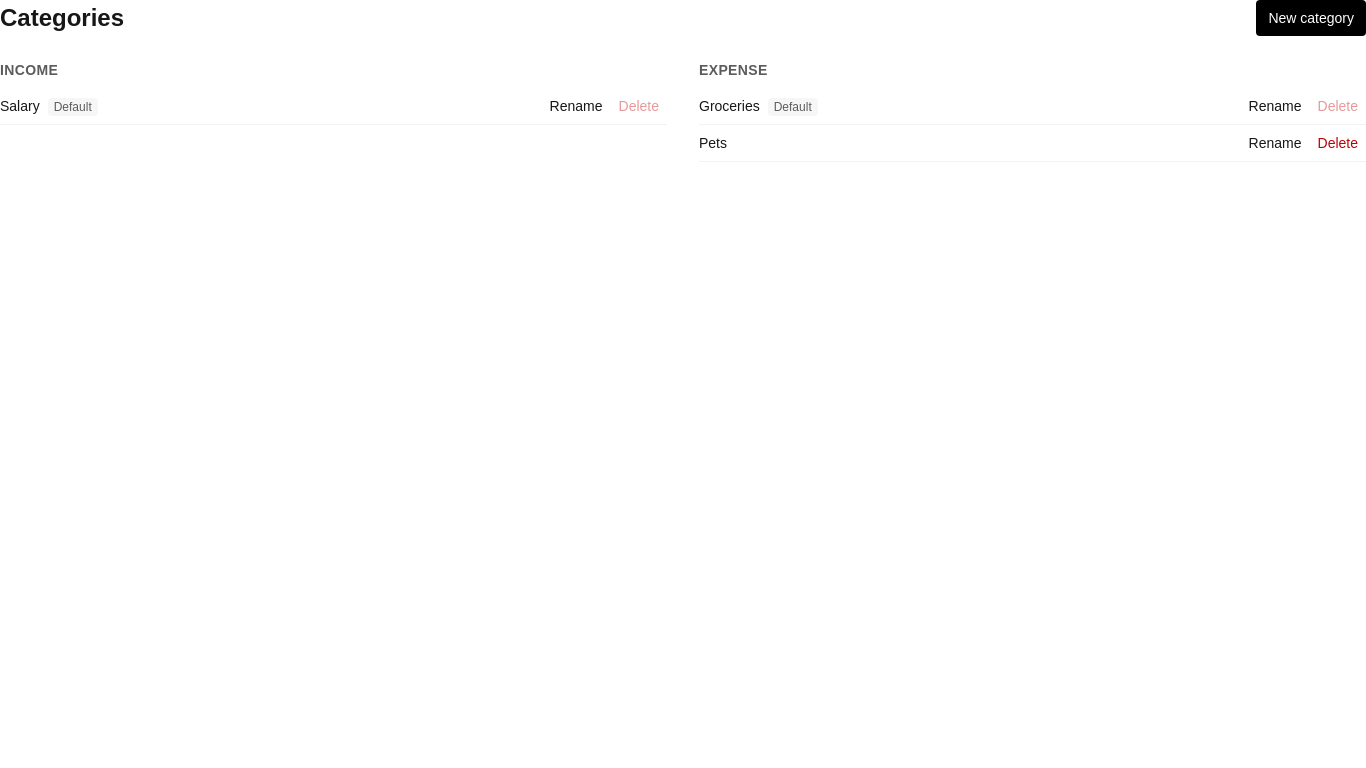
Test: CategoriesPage › renders a 409 from delete inside the confirm dialog
Expected: the text "Pets" is shown, [699,133,727,153]
Click the button named "Delete Pets". click: (1338, 143)
box: [1310,133,1365,153]
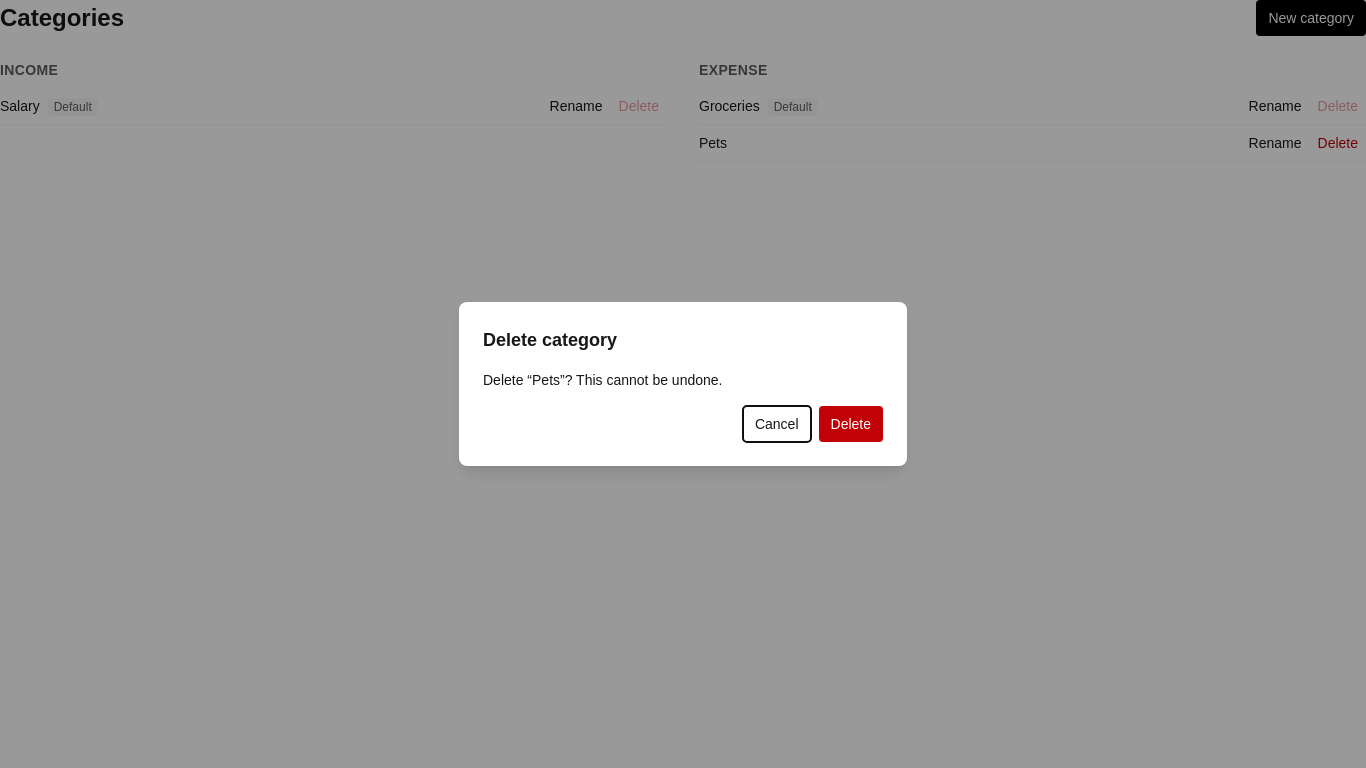
Click the button "Delete". click: (851, 424)
box: [818,406,883,442]
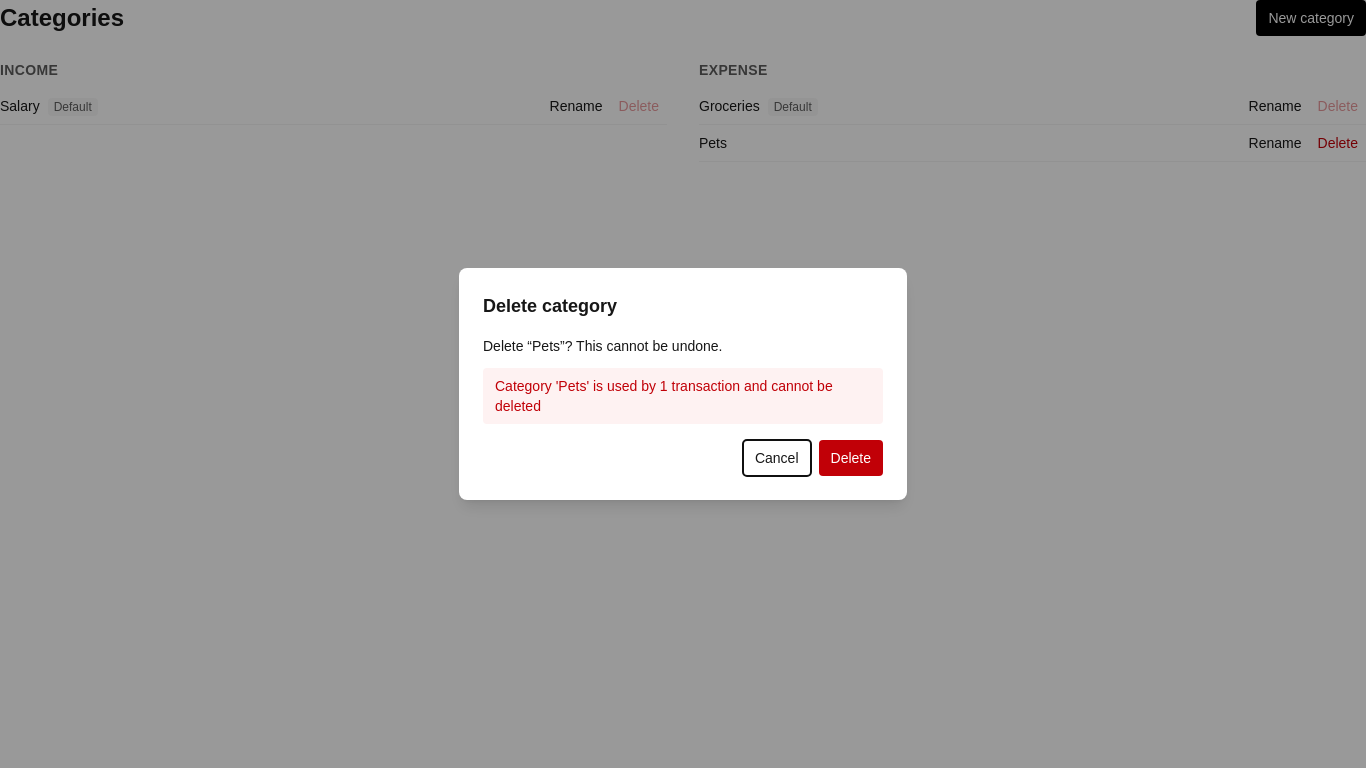
Expected: the text "Category 'Pets' is used by 1 transaction and cannot be deleted" is shown, [483,368,883,424]
